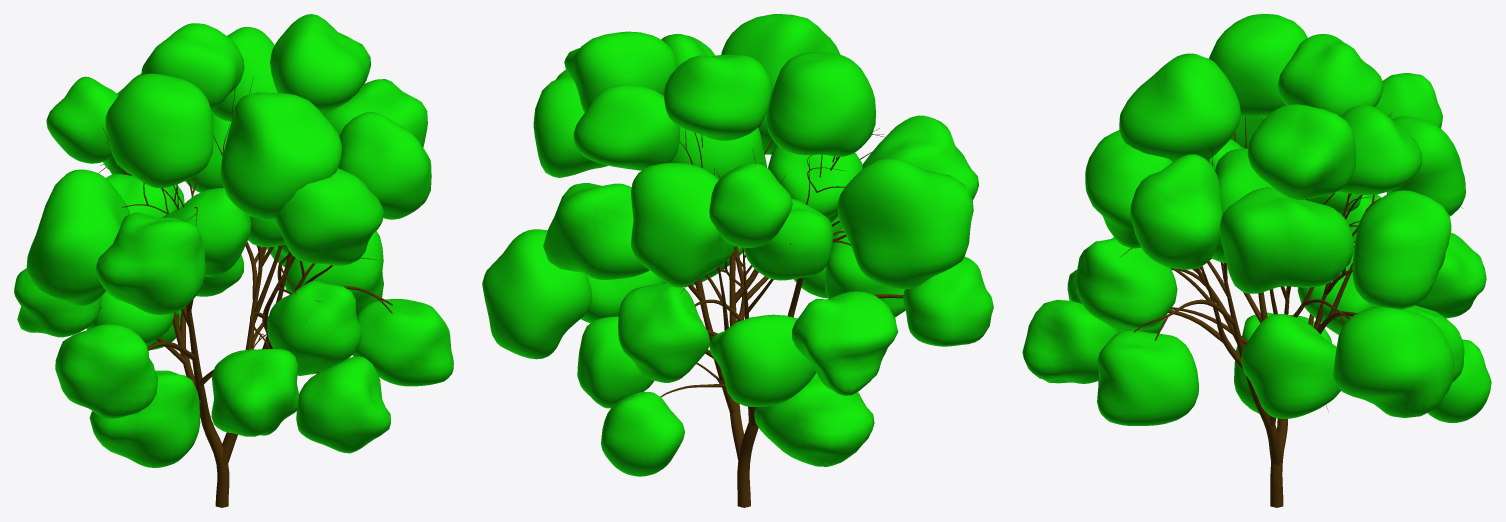
Rendered from tree 2.fbx.
3 renders of one model, left to right at view 1: azimuth 30°, elevation 25°; view 2: azimuth 150°, elevation 25°; view 3: azimuth 270°, elevation 25°, orthographic. The views are drawn at different scales.
Parts seen in each view (by area): view 1: tree; view 2: tree; view 3: tree.
Boxes of the visible parts, box(x1,y1,x2,y2) form: tree: box(14, 14, 453, 507); tree: box(482, 14, 993, 507); tree: box(1022, 14, 1491, 507).
Size of the model in its own units: 616 by 630 by 682.
